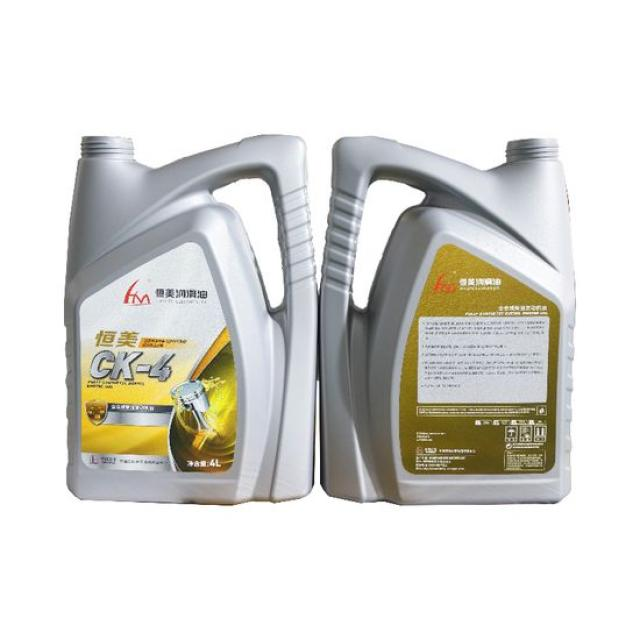motor_oil: (47, 128, 315, 521), (320, 117, 580, 520)
